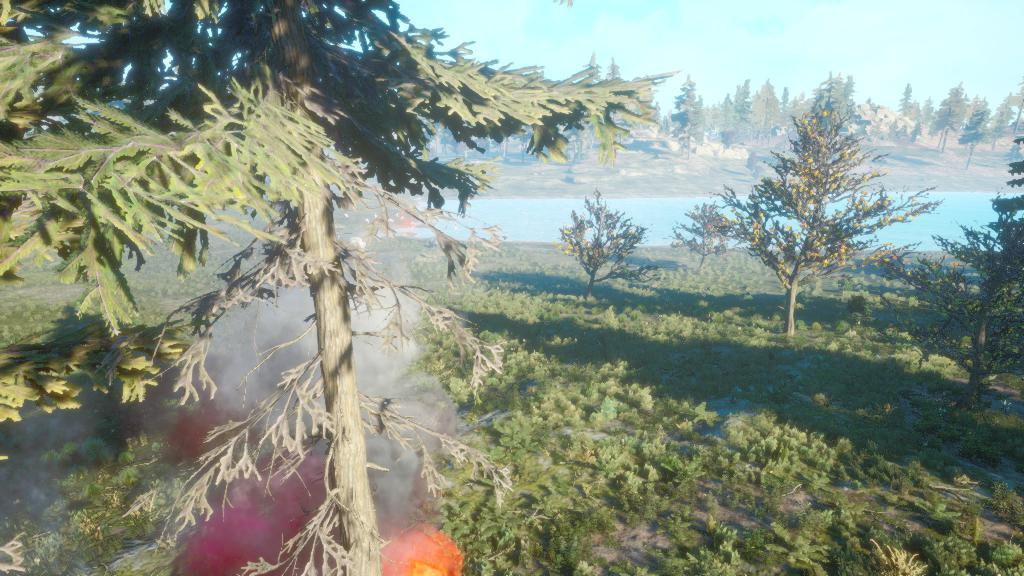Fire: (379, 521, 467, 575)
smoke: (183, 198, 425, 575)
